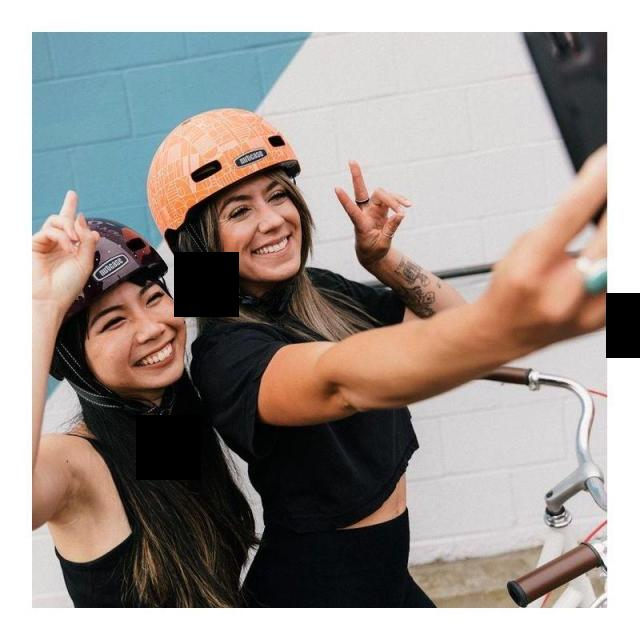Helmet: (146, 108, 309, 284), (51, 210, 173, 308)
